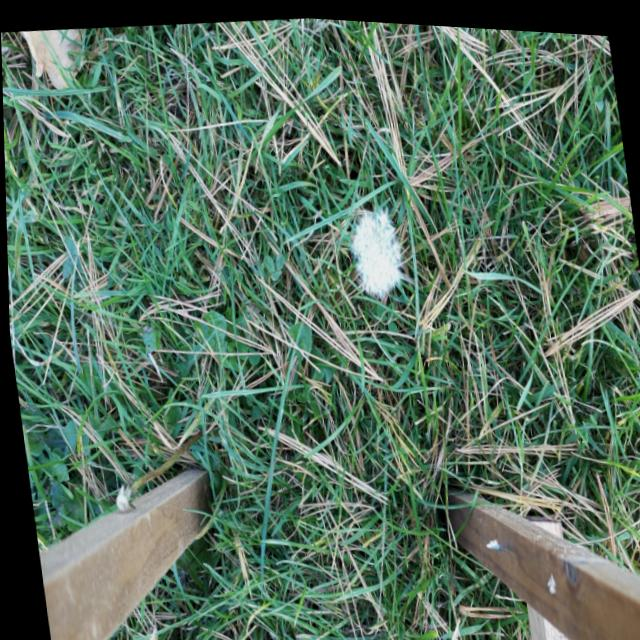base: (185, 408, 209, 448), (314, 288, 339, 326)
flower: (347, 202, 402, 292), (110, 481, 132, 511)
